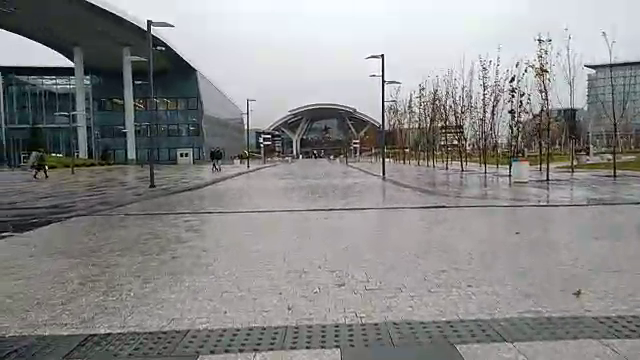mega: (260, 98, 391, 169)
